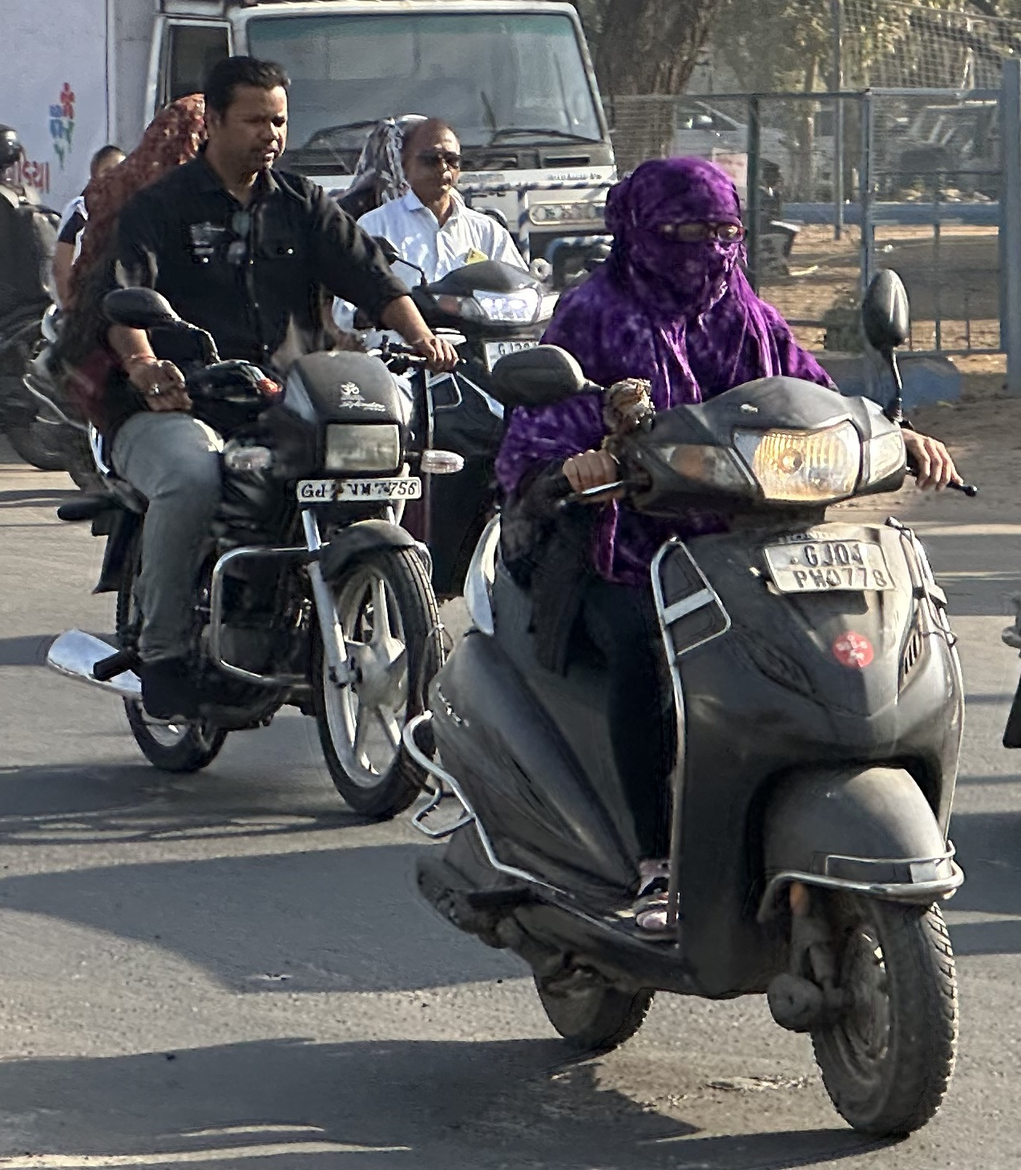BikeWithRider: (389, 141, 991, 1148), (33, 44, 479, 831)
NoHelmet: (600, 147, 765, 313), (186, 46, 309, 184), (383, 108, 482, 212)
